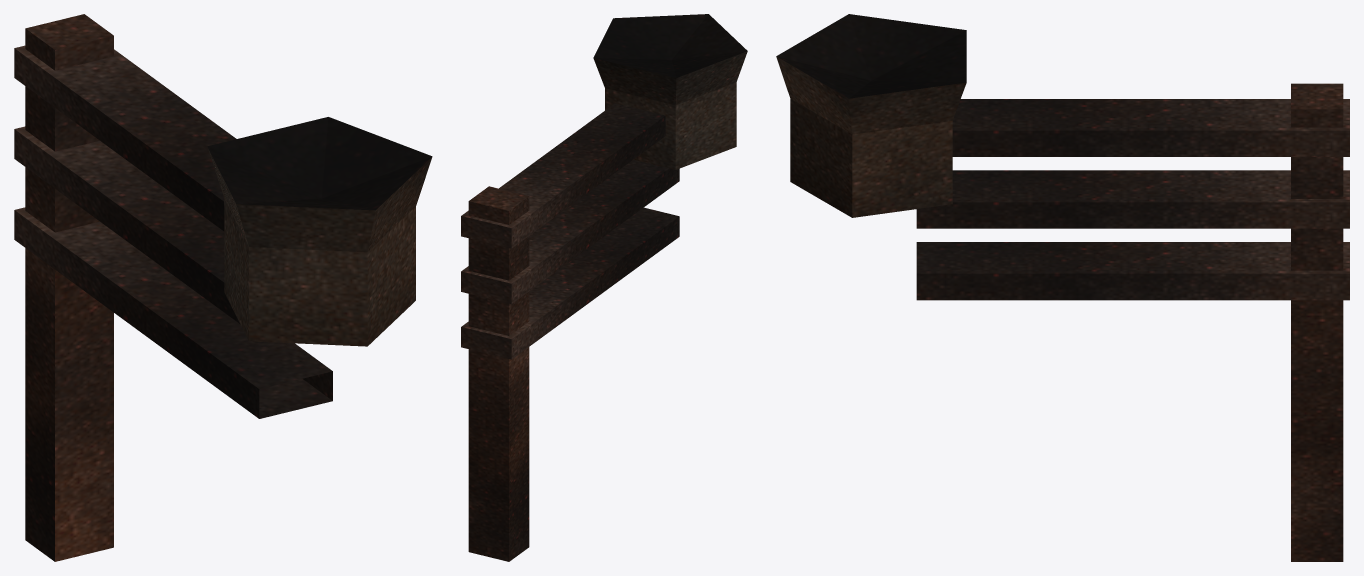
The model's file is TankAccessories.obj.
3 renders of one model, left to right at view 1: azimuth 30°, elevation 25°; view 2: azimuth 150°, elevation 25°; view 3: azimuth 270°, elevation 25°, orthographic. The views are drawn at different scales.
Parts seen in each view (by area): view 1: Tank_Accessories_TankAccessories; view 2: Tank_Accessories_TankAccessories; view 3: Tank_Accessories_TankAccessories.
Part boxes in pixels (<box>): Tank_Accessories_TankAccessories: <box>14,14,432,561</box>; Tank_Accessories_TankAccessories: <box>461,14,747,561</box>; Tank_Accessories_TankAccessories: <box>776,14,1349,561</box>.
Size of the model in its own units: 1.94 by 5.28 by 5.57.
Materials: 1 (1 with a texture image).
